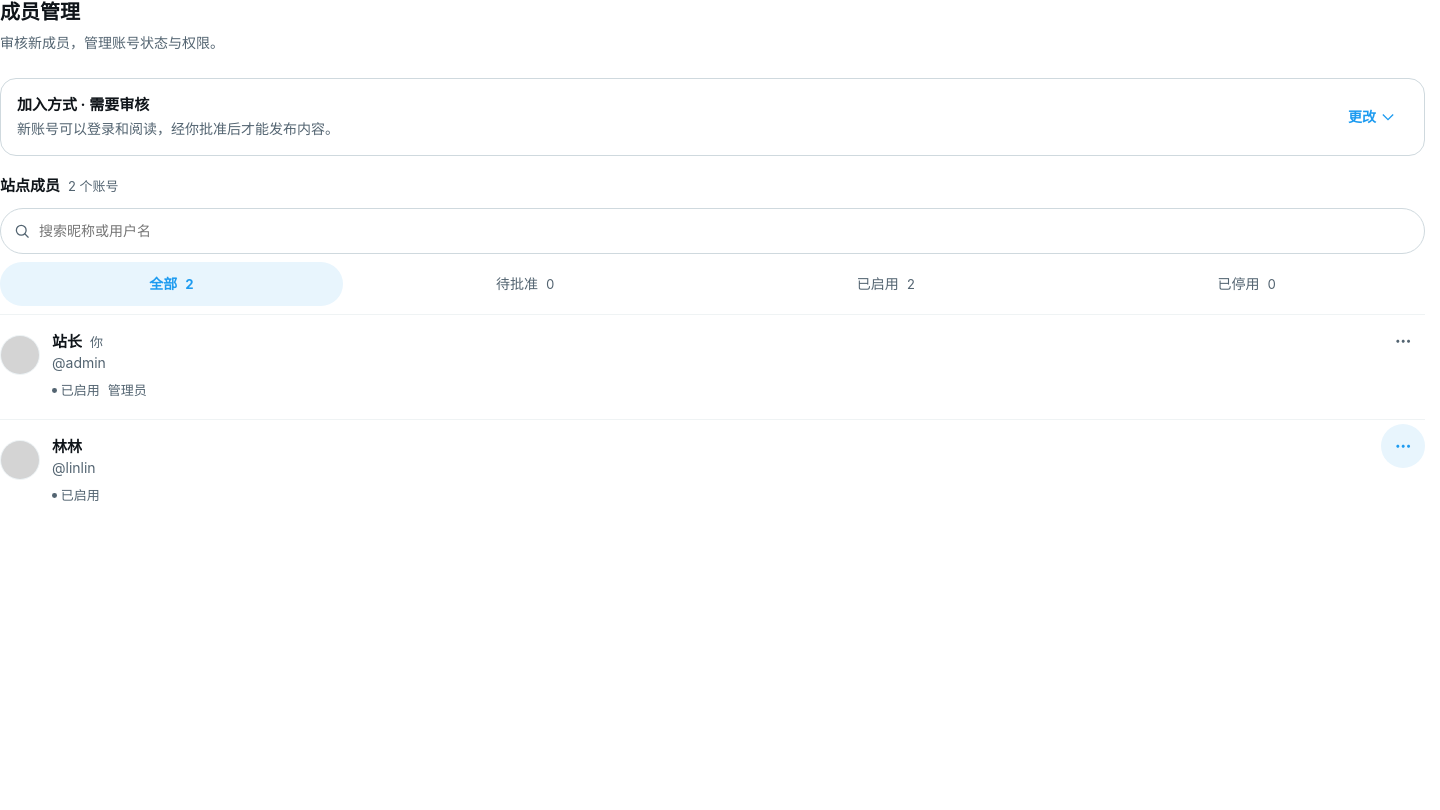
Test: members section › keeps a failed role change open and lets the administrator retry
The width and height of the screenshot is (1440, 810).
Press ArrowDown in the button named "管理 林林", box top-left (1381, 424), bottom-right (1425, 468)
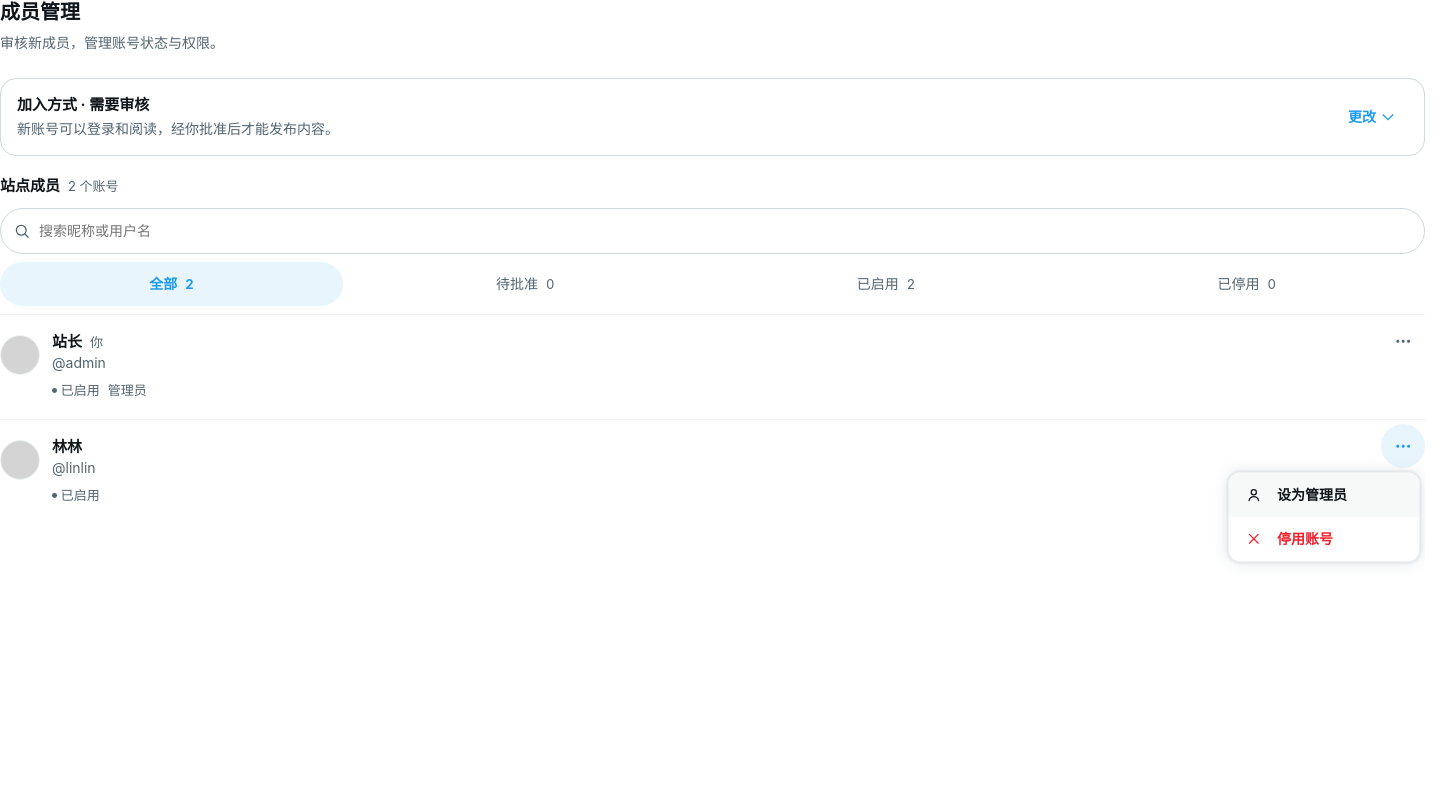
Click the menu item "设为管理员": (1324, 495) top-left (1229, 473), bottom-right (1419, 517)
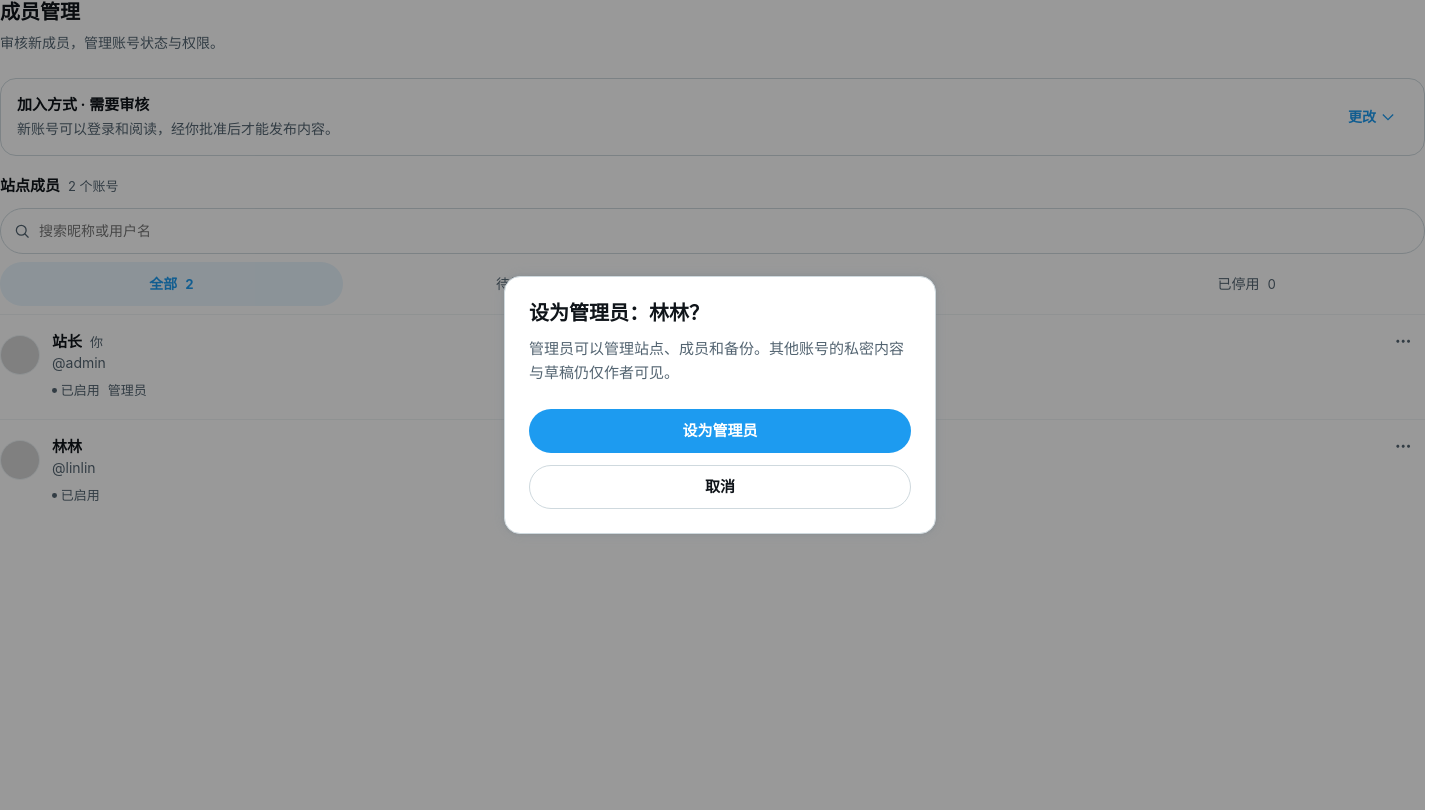
Click the button "设为管理员": (720, 431) top-left (529, 409), bottom-right (911, 453)
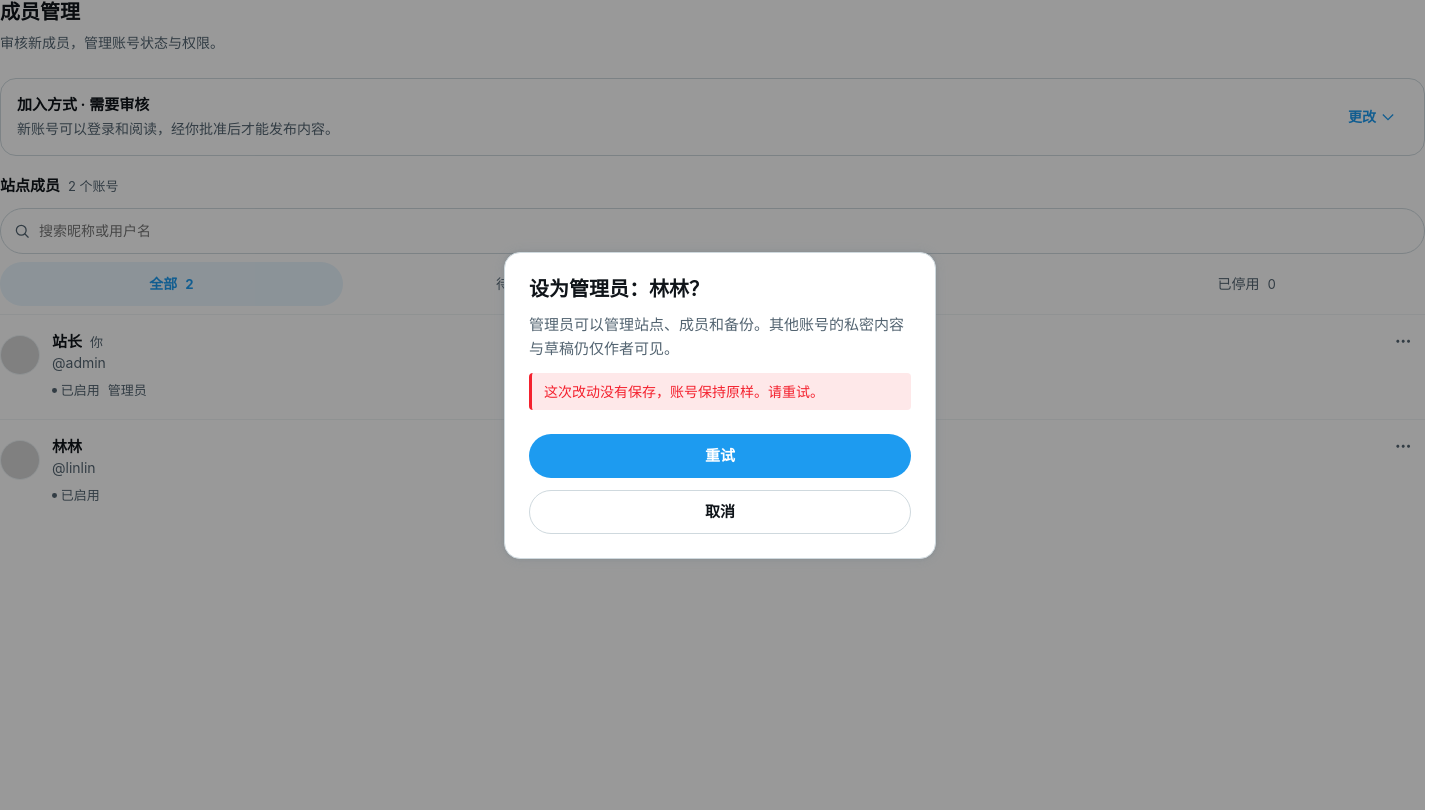
Expected: the message shows "没有保存", top-left (544, 382), bottom-right (824, 400)
Click the button "重试": (720, 456) top-left (529, 434), bottom-right (911, 478)
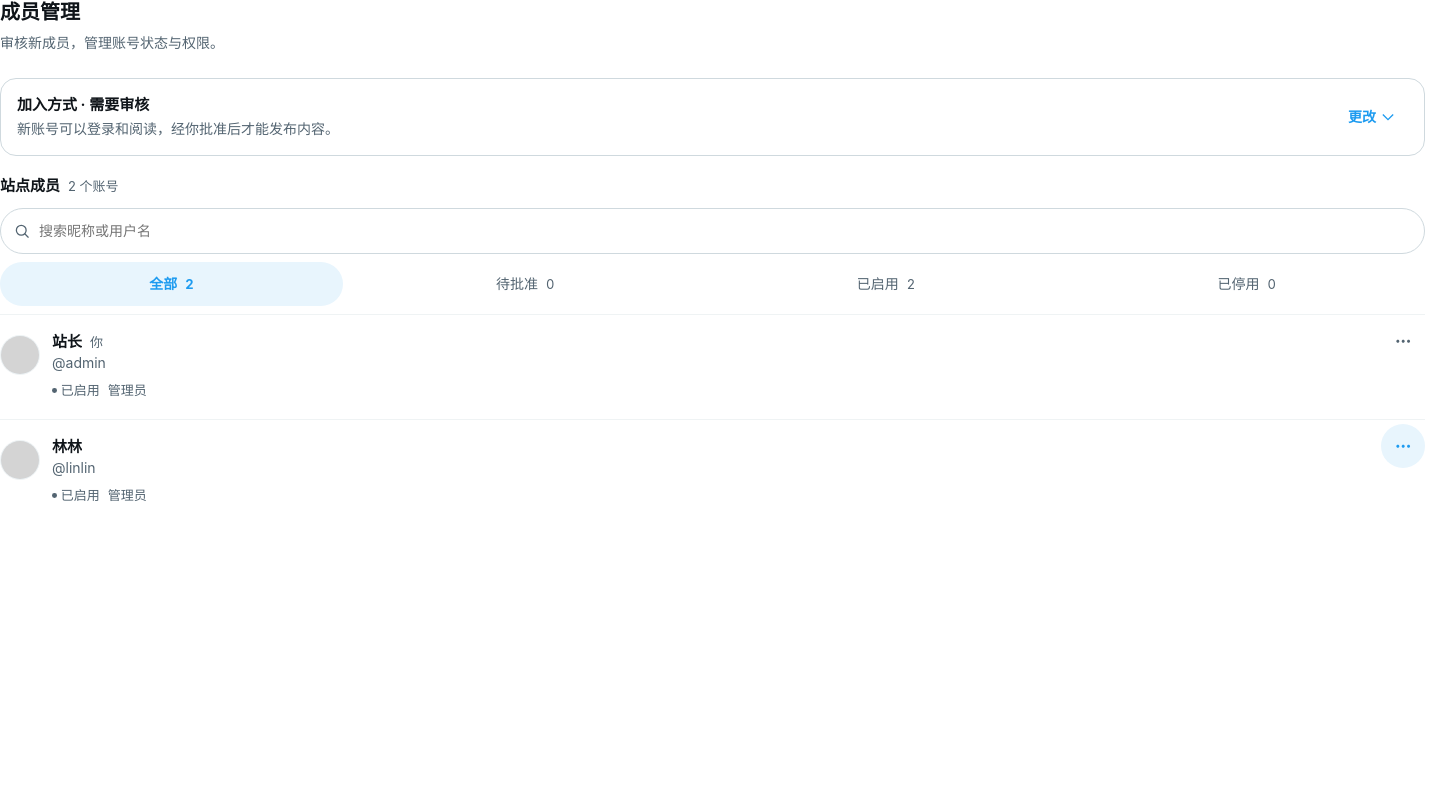
Expected: the dialog is gone
Expected: the list item named "管理 林林" shows "管理员", top-left (108, 487), bottom-right (147, 503)
